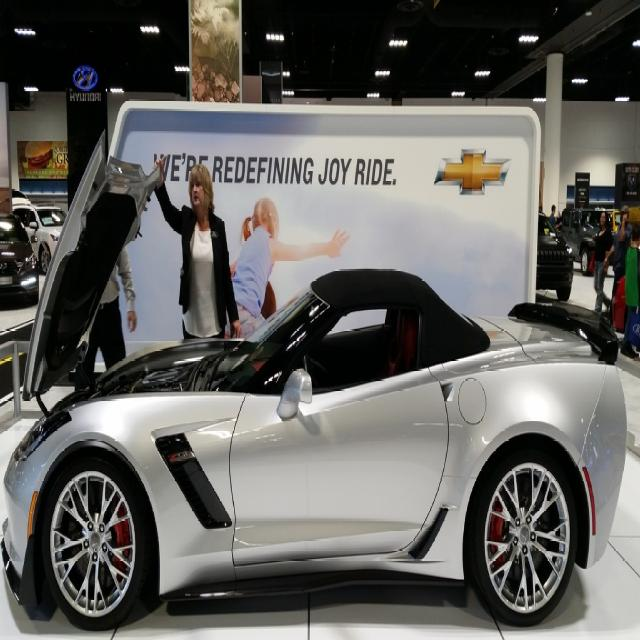car: (0, 266, 629, 627)
